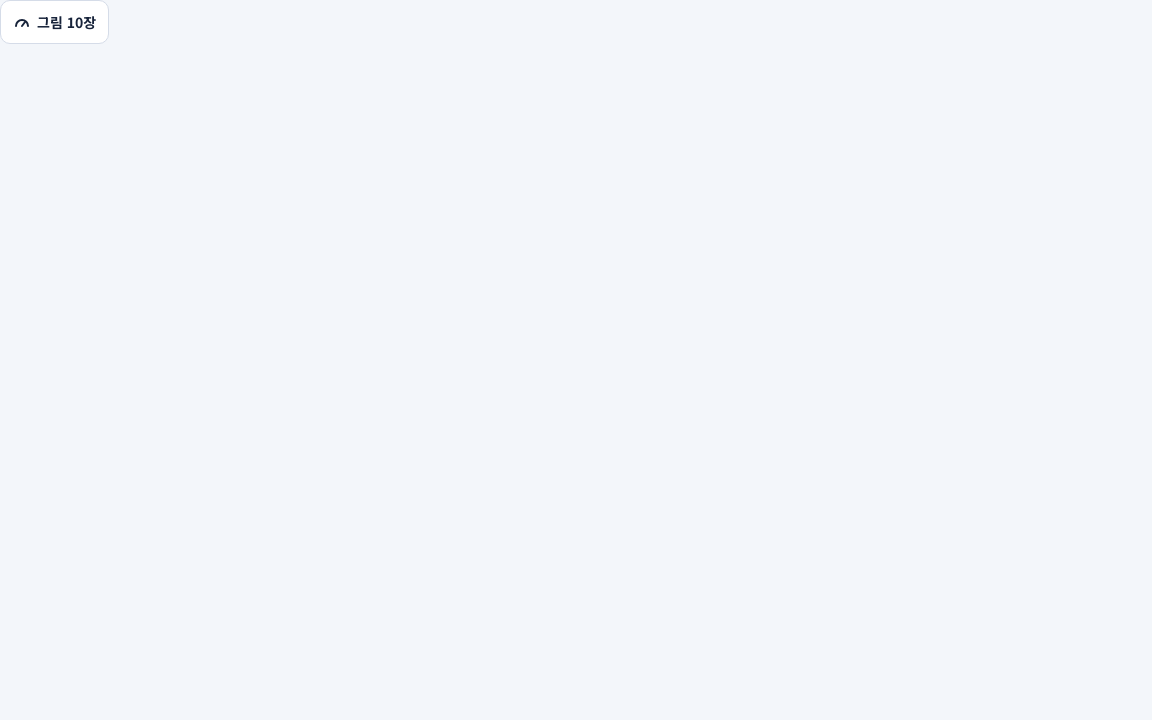
Scenario: UsageChip › the panel shows the connections with only the key tail, both counts, the cost for a priced picture kind, and the usage pages
The width and height of the screenshot is (1152, 720).
Step 1. Click the button with class "usage-chip" → click(55, 22), box [0,0,109,44]
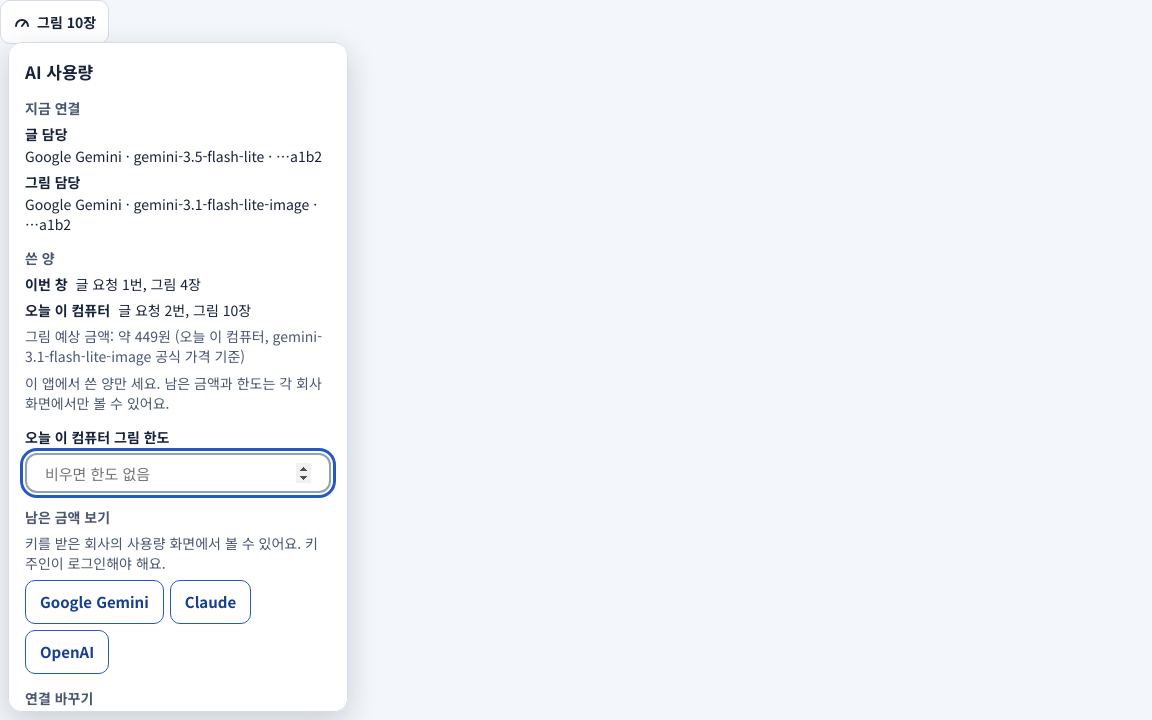
Check: the dialog "AI 사용량" shows "…a1b2", box [276,146,322,166]
Check: the text with test id "usage-cost" shows "약 449원", box [25,326,322,366]
